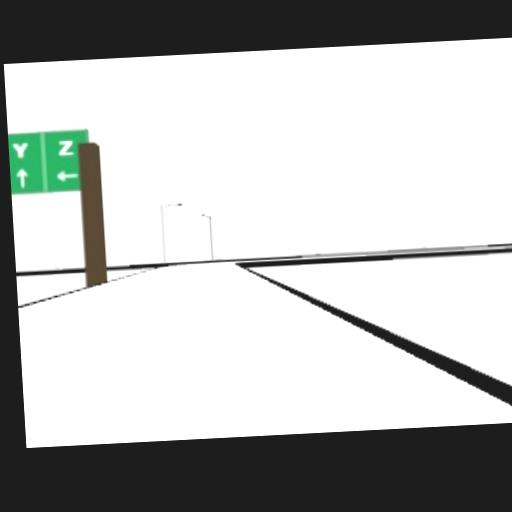Left: (55, 170, 78, 183)
Straight: (15, 169, 28, 188)
Y: (12, 142, 28, 157)
Z: (57, 139, 75, 155)
